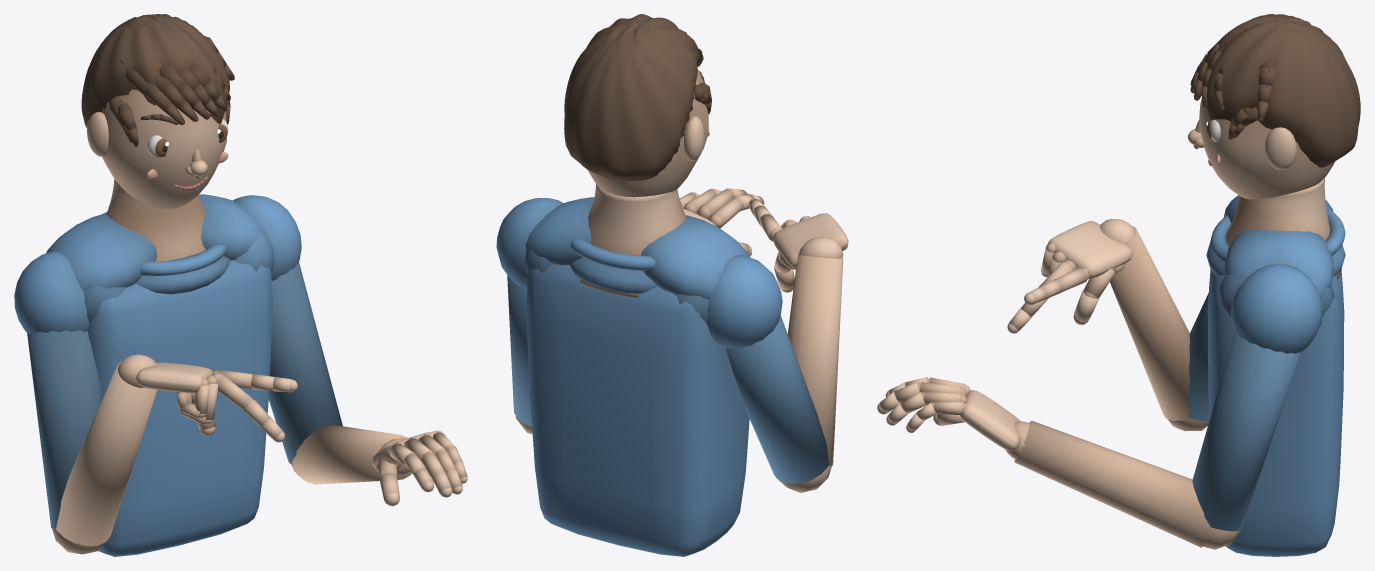
The picture shows the model from 3 angles, left to right: view 1: azimuth 30°, elevation 25°; view 2: azimuth 150°, elevation 25°; view 3: azimuth 270°, elevation 25°; orthographic projection.
Visible parts, largest first — view 1: LSC_Body; view 2: LSC_Body; view 3: LSC_Body.
Part boxes in pixels (box(x1,y1,x2,y2)): LSC_Body: box(14, 14, 467, 556); LSC_Body: box(496, 14, 848, 556); LSC_Body: box(877, 14, 1360, 556).
Size of the model in its own units: 0.4349 by 0.713 by 0.6104.
